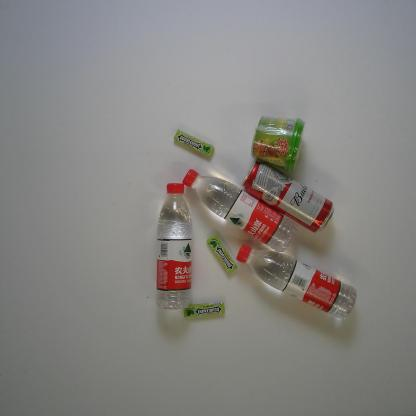Alcohol: (240, 159, 336, 235)
Drink: (235, 242, 359, 322), (180, 169, 298, 253), (154, 183, 194, 311)
Gum: (171, 128, 215, 159), (205, 234, 238, 274), (179, 300, 227, 320)
Instant Drink: (249, 114, 307, 172)
